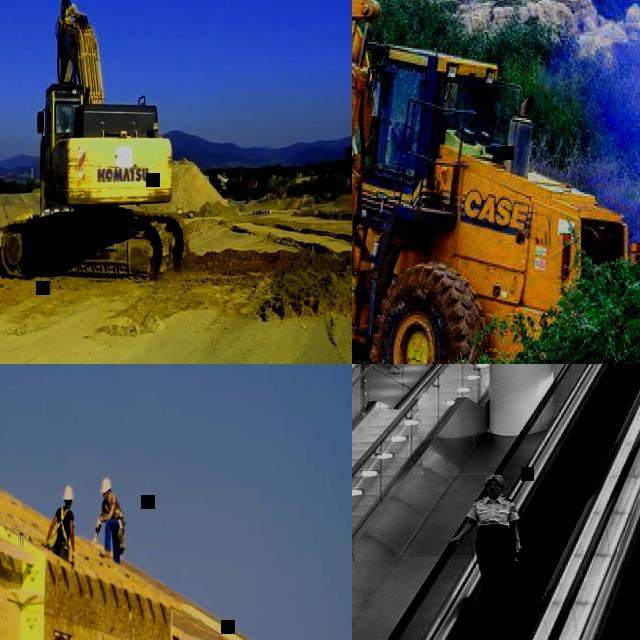helmet: (101, 478, 111, 494), (64, 486, 74, 501)
machinery: (352, 0, 640, 364), (2, 0, 190, 283)
no_helmet: (487, 474, 505, 486)
no_mask: (486, 486, 501, 494), (105, 495, 108, 501)
no_vest: (475, 496, 511, 526), (58, 506, 71, 544), (105, 495, 123, 520)
person: (451, 474, 524, 614), (92, 477, 126, 563), (48, 485, 76, 563), (407, 81, 425, 165), (56, 112, 70, 134)
vest: (58, 124, 70, 132)
